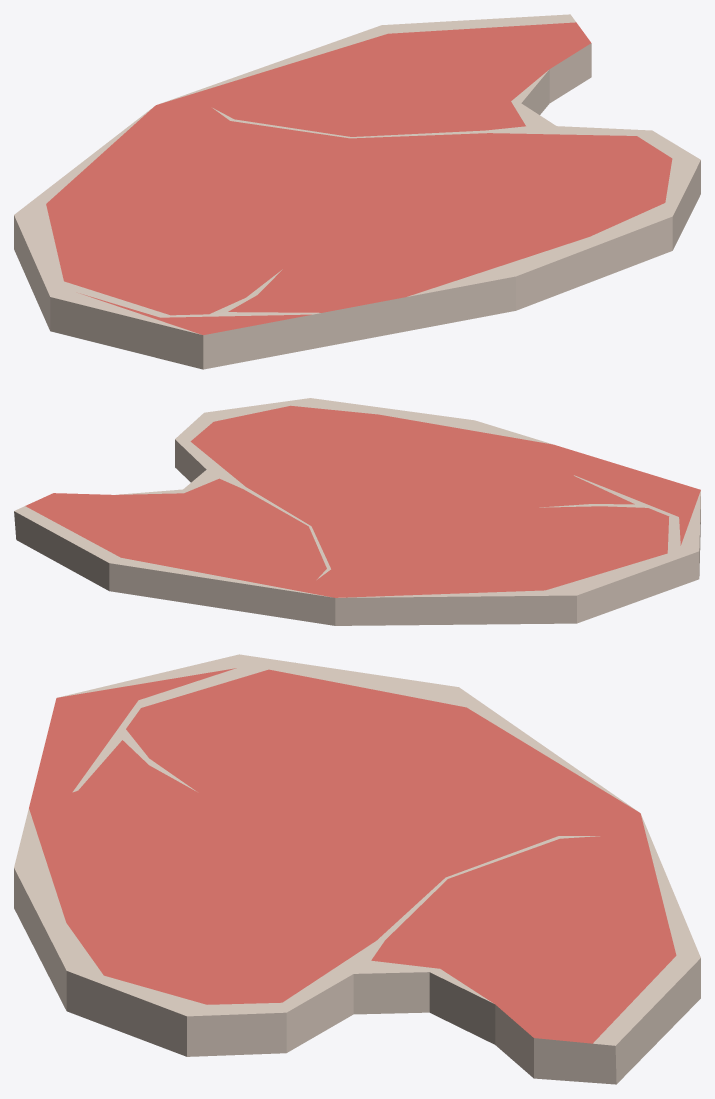
Rendered from f_meat.fbx.
The picture shows the model from 3 angles, top to bottom: view 1: azimuth 30°, elevation 25°; view 2: azimuth 150°, elevation 25°; view 3: azimuth 270°, elevation 25°; orthographic projection. The views are drawn at different scales.
Parts seen in each view (by area): view 1: meat; view 2: meat; view 3: meat.
Boxes of the visible parts, box(x1,y1,x2,y2) form: meat: box(14, 14, 700, 369); meat: box(14, 398, 700, 625); meat: box(14, 654, 700, 1084).
Size of the model in its own units: 62.82 by 3.03 by 46.59.
